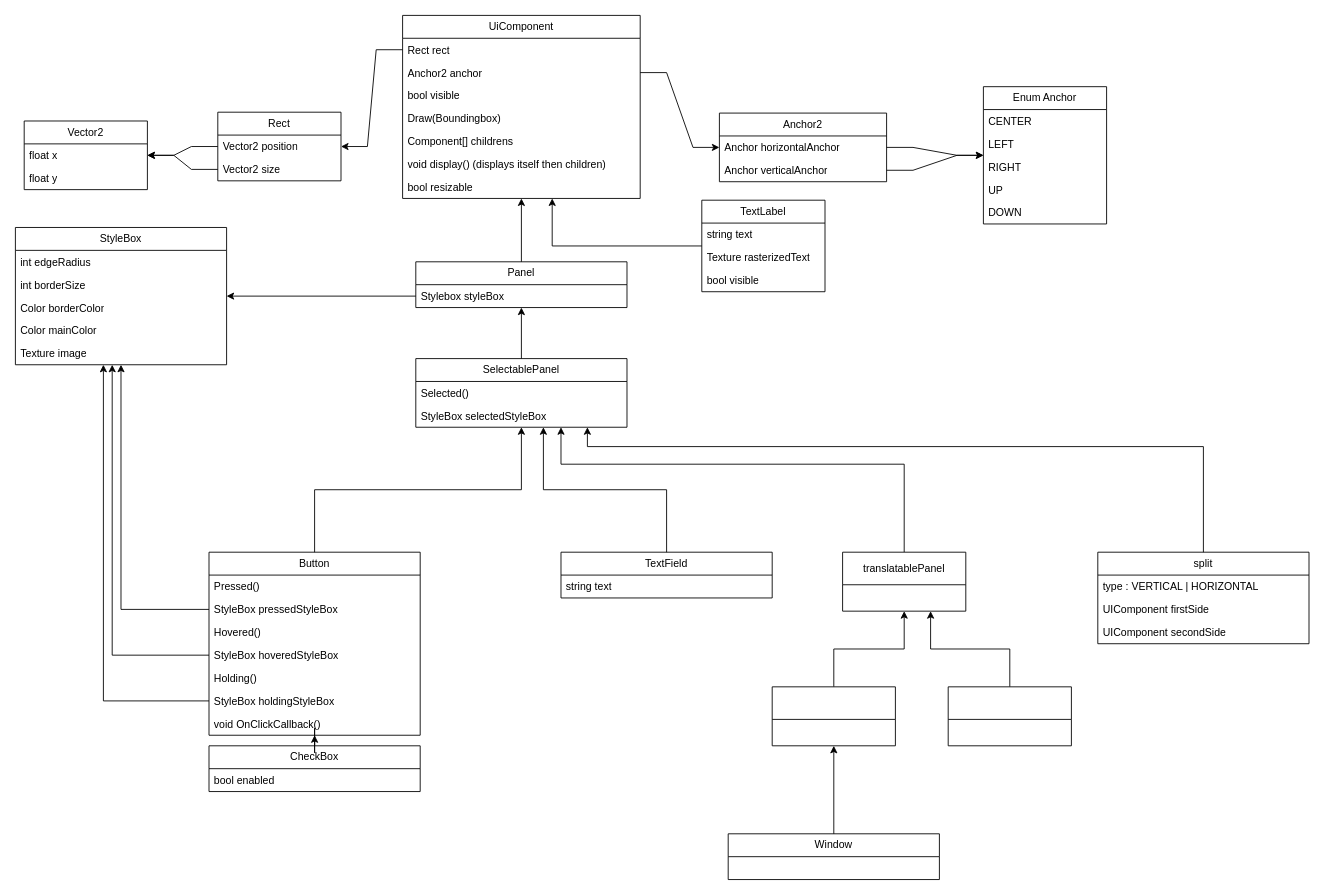
Some shapes in this 1324 by 895 pixel diagram are drawn without their labels. Here are the shapes that lost their labels. From the top down, the centre of each, then its label:
At (x=833, y=716): "resizablePanel".
At (x=1009, y=716): "Node".
